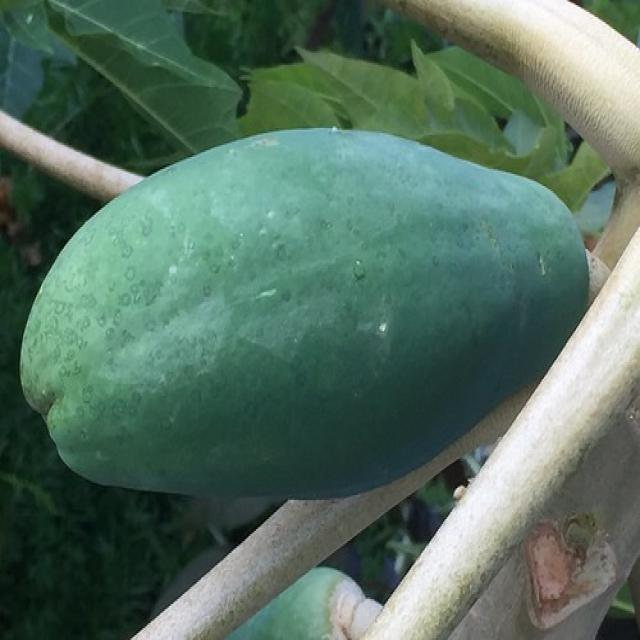Pepaya unrippen: (10, 119, 599, 519)
